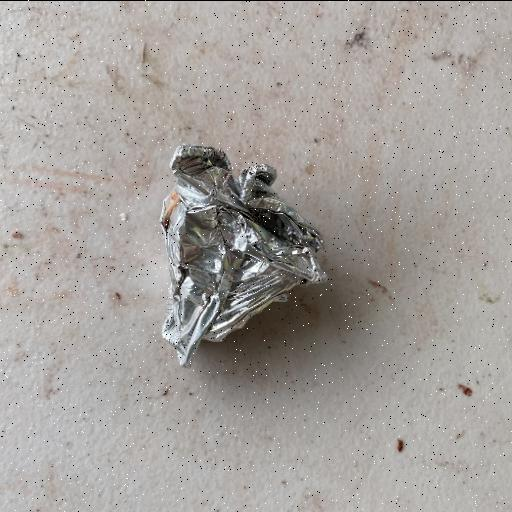Metal: (156, 142, 330, 370)
